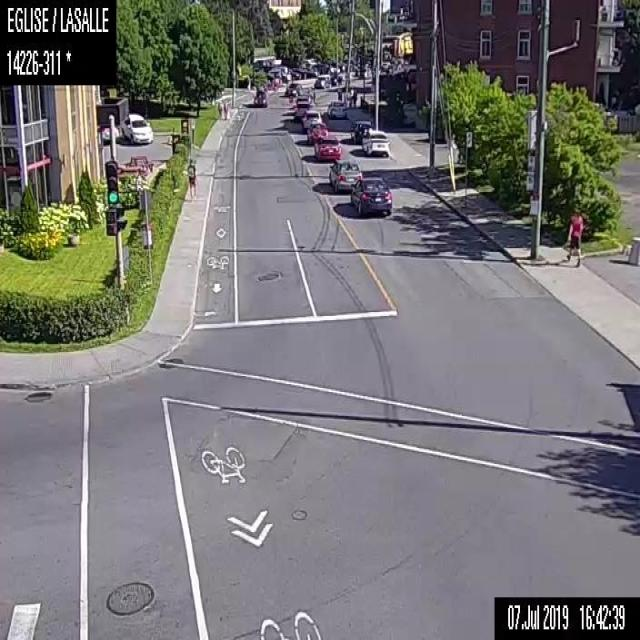pedestrian: (565, 207, 583, 265), (187, 157, 196, 200), (346, 86, 353, 107), (222, 99, 228, 120), (216, 101, 222, 119), (352, 86, 357, 106), (336, 85, 342, 98)
vehicle: (350, 176, 392, 213), (329, 157, 361, 190), (121, 112, 153, 142), (360, 127, 389, 156), (314, 133, 340, 160), (306, 120, 328, 144), (350, 119, 371, 142), (326, 98, 346, 118), (302, 109, 321, 129), (294, 102, 313, 120), (313, 74, 331, 90), (283, 81, 302, 96), (254, 91, 268, 105), (295, 93, 313, 103)
